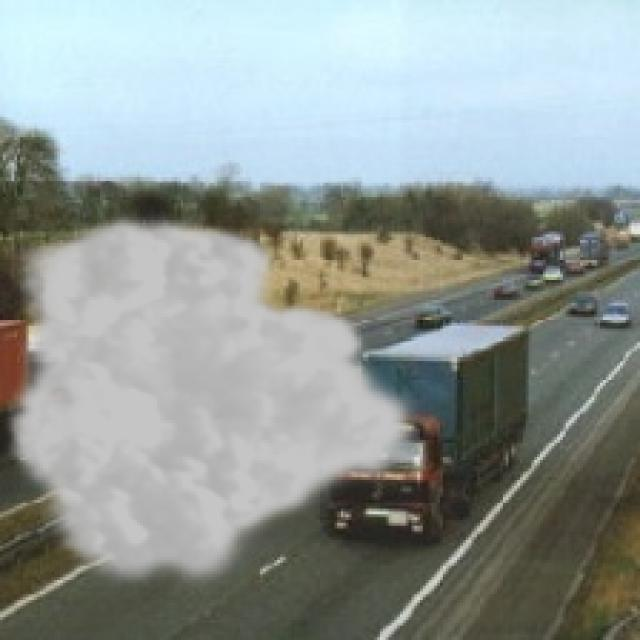smoke: (3, 209, 426, 594)
